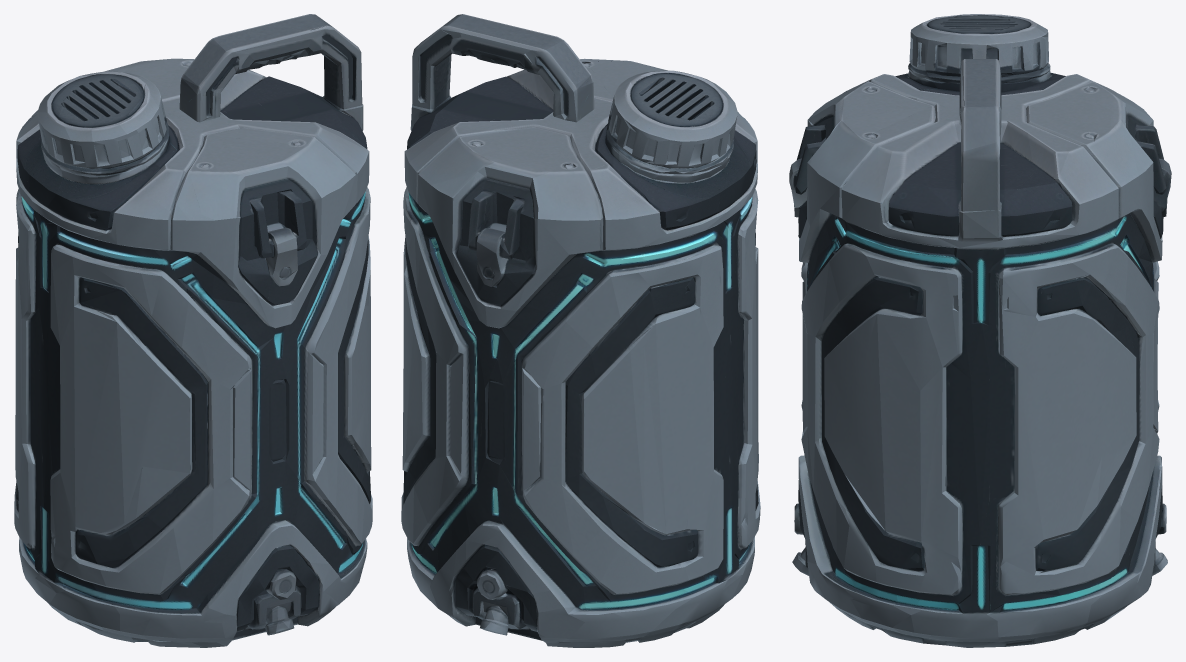
The model's file is can.glb.
The picture shows the model from 3 angles, left to right: view 1: azimuth 30°, elevation 25°; view 2: azimuth 150°, elevation 25°; view 3: azimuth 270°, elevation 25°; orthographic projection.
Visible parts, largest first — view 1: output_unwrapped; view 2: output_unwrapped; view 3: output_unwrapped.
Boxes of the visible parts, box(x1,y1,x2,y2) form: output_unwrapped: box(14, 14, 372, 647); output_unwrapped: box(401, 14, 760, 647); output_unwrapped: box(789, 14, 1171, 647).
Bounding box in the file's own units: 1.18 × 1.9 × 1.22.
1 material, 1 textured.
